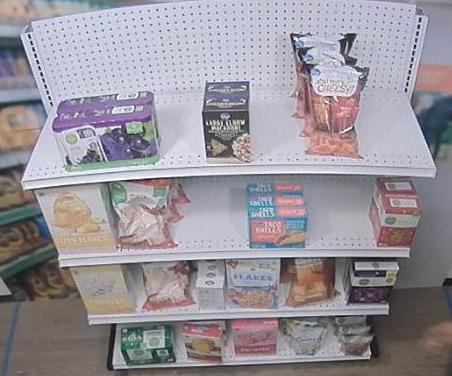stockout: (362, 70, 435, 162), (180, 179, 248, 249), (309, 177, 373, 245), (152, 81, 205, 162), (252, 80, 304, 160), (23, 99, 67, 175)
